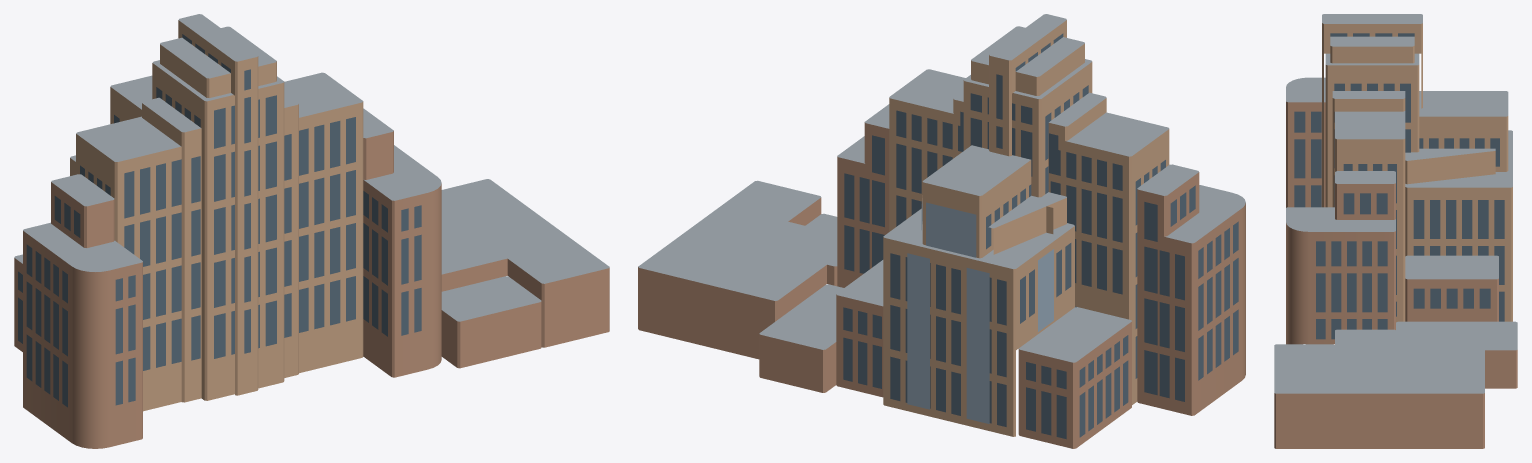
Rendered from detail.glb.
3 renders of one model, left to right at view 1: azimuth 30°, elevation 25°; view 2: azimuth 150°, elevation 25°; view 3: azimuth 270°, elevation 25°, orthographic. The views are drawn at different scales.
Visible parts, largest first — view 1: pacific-tower; view 2: pacific-tower; view 3: pacific-tower.
Boxes of the visible parts, x1,y1,x2,y2 form: pacific-tower: [14, 14, 609, 448]; pacific-tower: [638, 14, 1245, 448]; pacific-tower: [1274, 14, 1517, 448].
Bounding box in the file's own units: 111 × 68 × 52.
